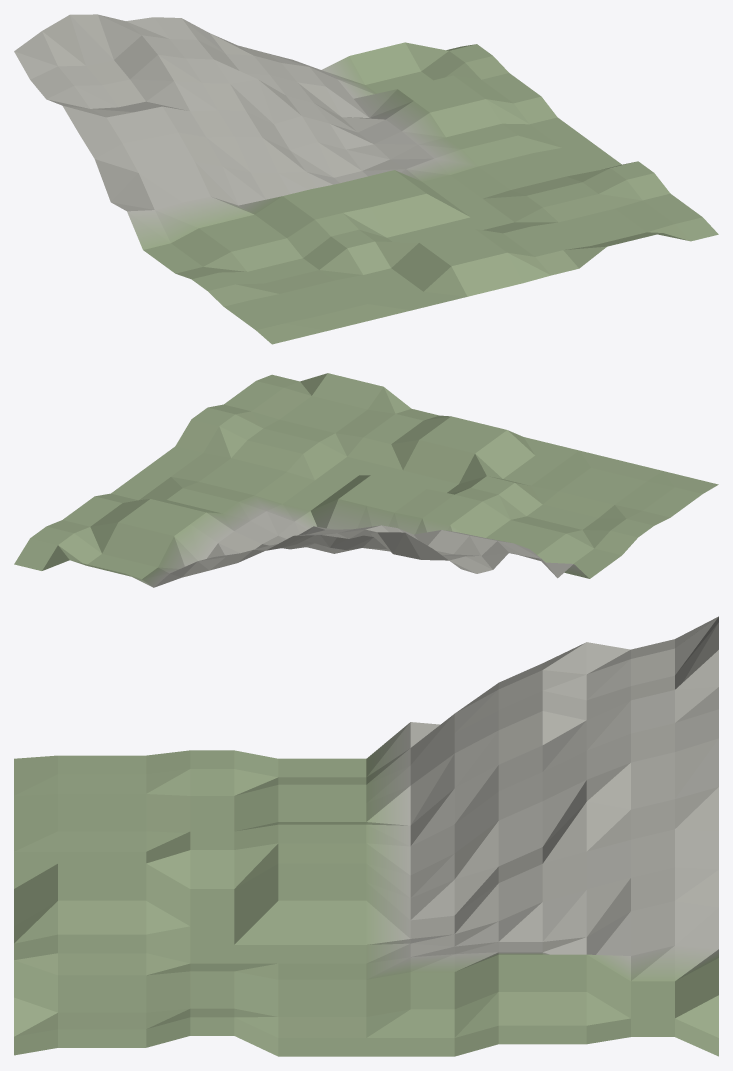
The picture shows the model from 3 angles, top to bottom: view 1: azimuth 30°, elevation 25°; view 2: azimuth 150°, elevation 25°; view 3: azimuth 270°, elevation 25°; orthographic projection. The views are drawn at different scales.
Size of the model in its own units: 32 by 9.34 by 32.
